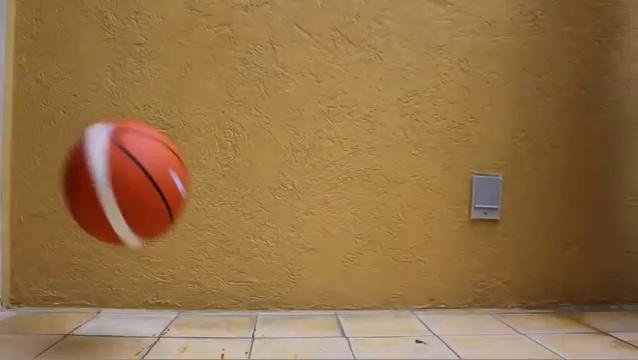ball: (61, 116, 191, 246)
